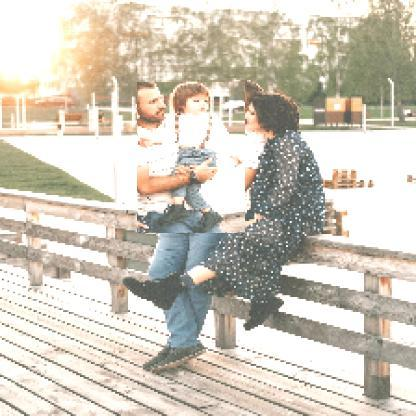child: (138, 83, 247, 235)
